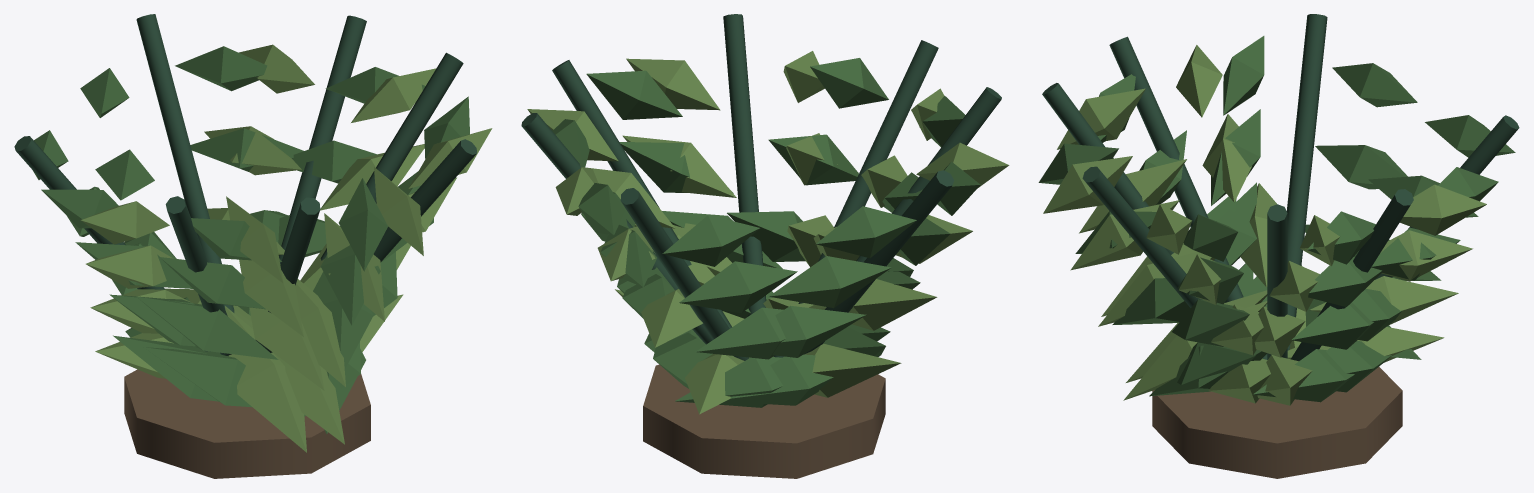
The model's file is plant-fern-3.glb.
3 renders of one model, left to right at view 1: azimuth 30°, elevation 25°; view 2: azimuth 150°, elevation 25°; view 3: azimuth 270°, elevation 25°, orthographic.
Parts seen in each view (by area): view 1: plant-fern-3-visual; view 2: plant-fern-3-visual; view 3: plant-fern-3-visual.
Part boxes in pixels (<box>): plant-fern-3-visual: <box>14,14,492,478</box>; plant-fern-3-visual: <box>521,14,1009,478</box>; plant-fern-3-visual: <box>1038,14,1519,478</box>.
Size of the model in its own units: 0.6229 by 0.4478 by 0.6146.
